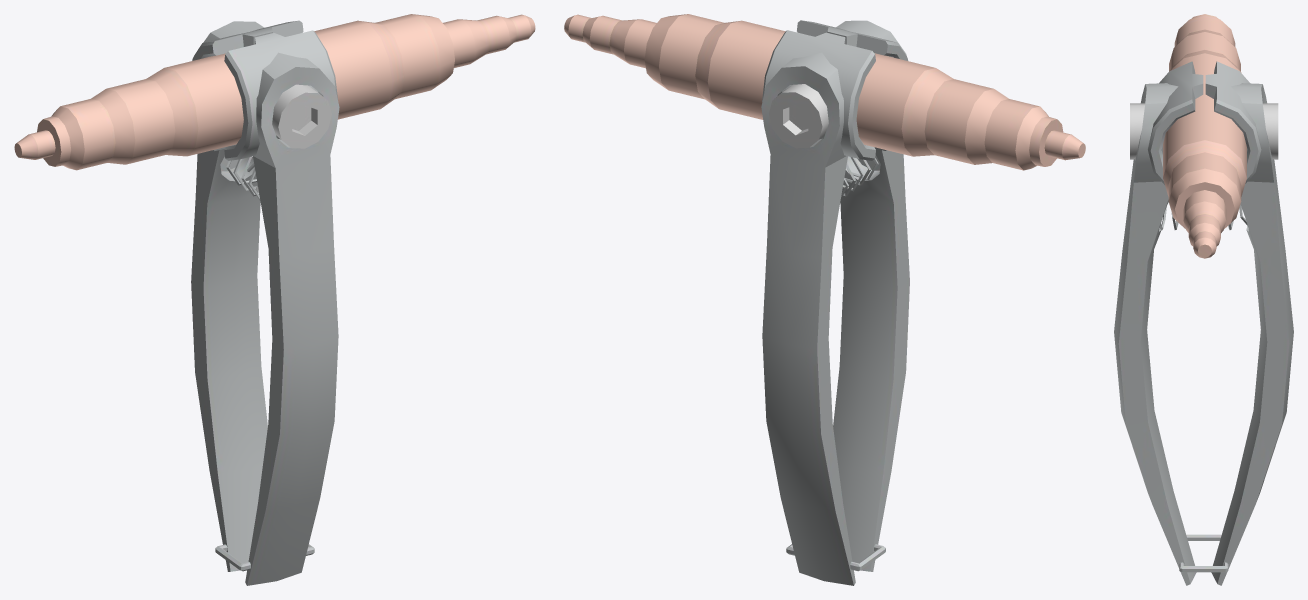
File: tool_pipe_expander.glb
3 views of the same model, side by side, from view 1: azimuth 30°, elevation 25°; view 2: azimuth 150°, elevation 25°; view 3: azimuth 270°, elevation 25° (orthographic). The views are drawn at different scales.
Parts seen in each view (by area): view 1: tool_expander_pipe_expander; view 2: tool_expander_pipe_expander; view 3: tool_expander_pipe_expander.
Boxes of the visible parts, left/top/right/bottom form: tool_expander_pipe_expander: left=14, top=14, right=535, bottom=585; tool_expander_pipe_expander: left=564, top=14, right=1085, bottom=585; tool_expander_pipe_expander: left=1114, top=14, right=1293, bottom=585.
Bounding box in the file's own units: 0.1602 × 0.1603 × 0.0529.
Materials: 1 (1 with a texture image).
